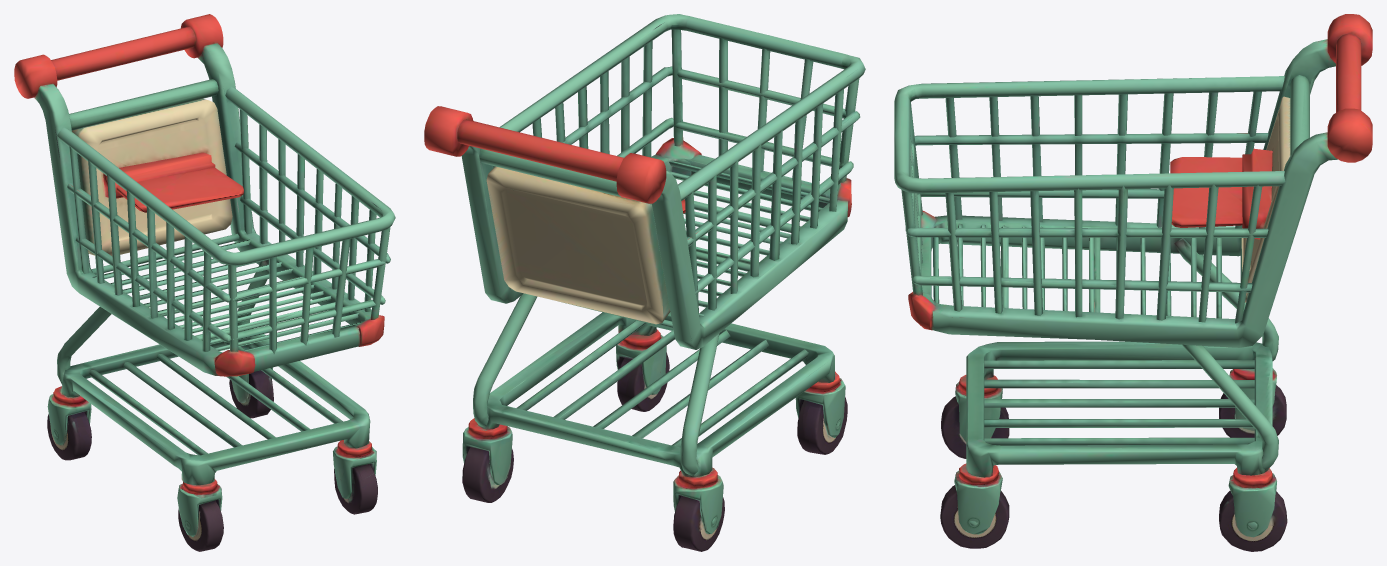
File: cart.glb
3 renders of one model, left to right at view 1: azimuth 30°, elevation 25°; view 2: azimuth 150°, elevation 25°; view 3: azimuth 270°, elevation 25°, orthographic. The views are drawn at different scales.
Visible parts, largest first — view 1: Shopping Cart; view 2: Shopping Cart; view 3: Shopping Cart.
Part boxes in pixels (x1,y1,x2,y2): Shopping Cart: [14, 14, 395, 551]; Shopping Cart: [424, 14, 865, 551]; Shopping Cart: [894, 14, 1372, 551].
Size of the model in its own units: 0.6113 by 0.998 by 0.998.
Materials: 1 (1 with a texture image).
